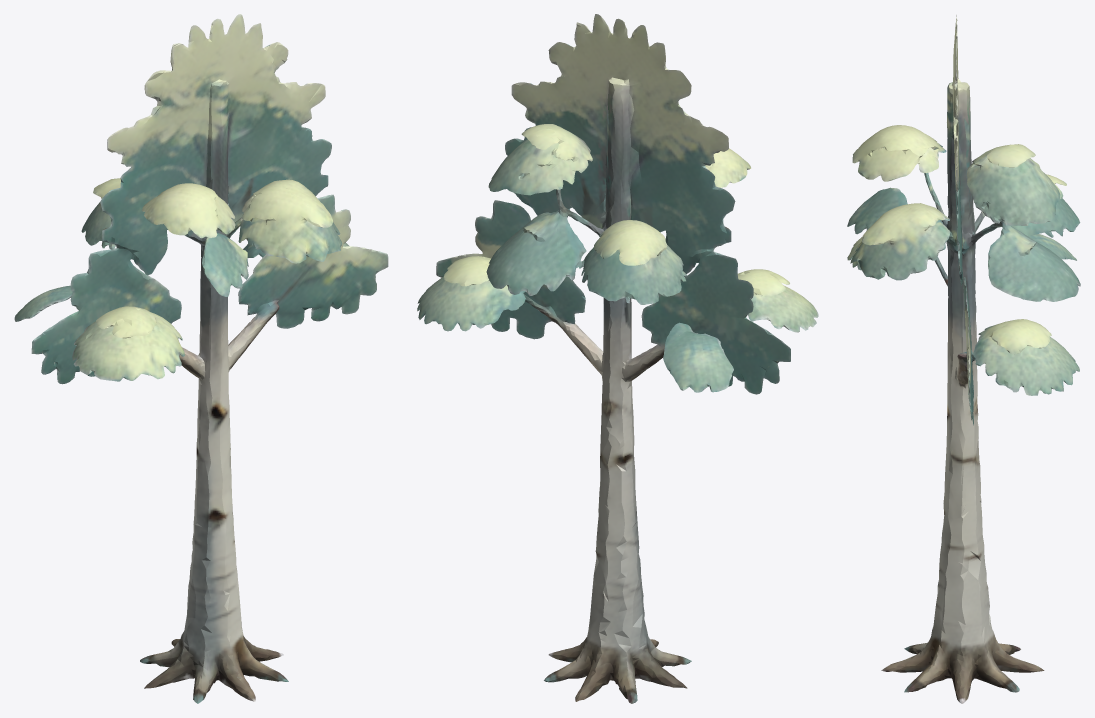
Rendered from birch.glb.
The picture shows the model from 3 angles, left to right: view 1: azimuth 30°, elevation 25°; view 2: azimuth 150°, elevation 25°; view 3: azimuth 270°, elevation 25°; orthographic projection.
Visible parts, largest first — view 1: Rodin_birch; view 2: Rodin_birch; view 3: Rodin_birch.
Boxes of the visible parts, x1,y1,x2,y2 form: Rodin_birch: (14,14,388,703); Rodin_birch: (417,14,818,703); Rodin_birch: (847,15,1080,703).
Bounding box in the file's own units: 5.13 × 9 × 2.95.
Materials: 1 (1 with a texture image).
